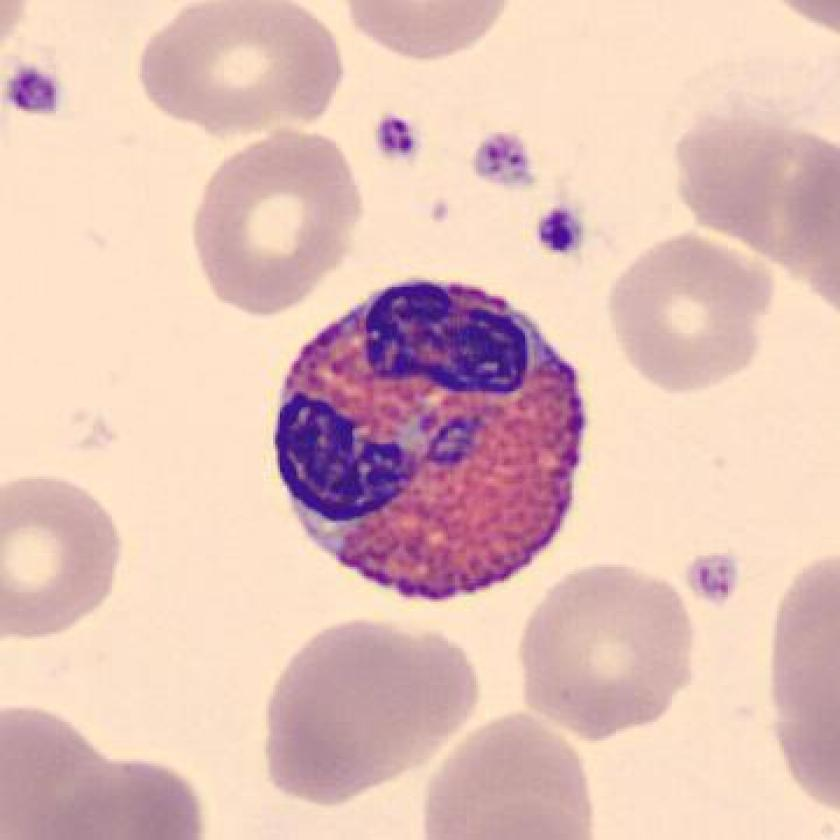eosinophil: (260, 265, 601, 616)
